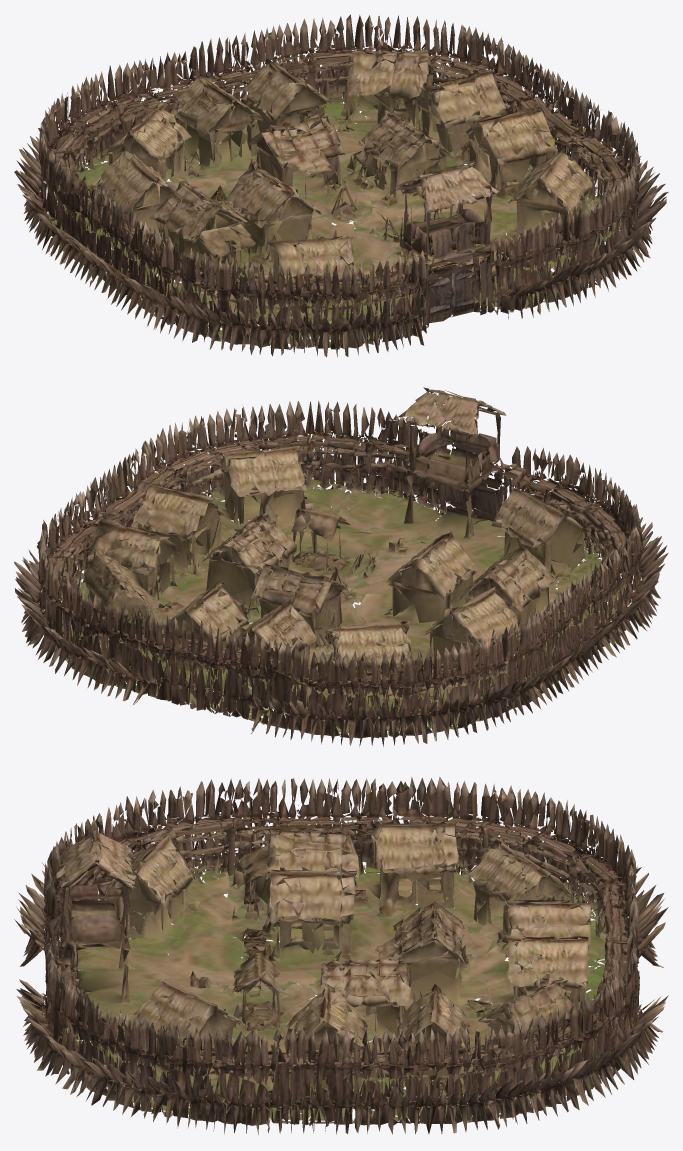
File: palmares_centro.glb
3 renders of one model, top to bottom at view 1: azimuth 30°, elevation 25°; view 2: azimuth 150°, elevation 25°; view 3: azimuth 270°, elevation 25°, orthographic. The views are drawn at different scales.
Visible parts, largest first — view 1: Mesh_0; view 2: Mesh_0; view 3: Mesh_0.
Boxes of the visible parts, bbox=[...] form: Mesh_0: bbox=[14, 14, 668, 357]; Mesh_0: bbox=[14, 387, 668, 746]; Mesh_0: bbox=[14, 777, 668, 1135].
Bounding box in the file's own units: 1.9 × 0.4986 × 1.89.
1 material, 1 textured.
